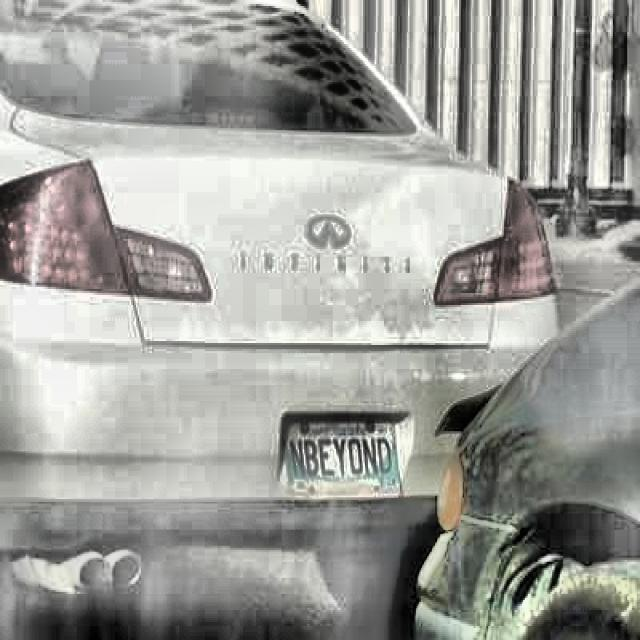license_plate: (282, 416, 403, 502)
